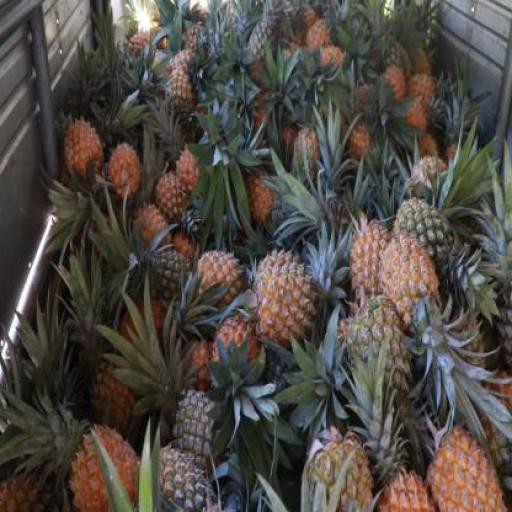------------------------------: (348, 300, 418, 400), (393, 200, 457, 298), (93, 356, 143, 432), (165, 70, 198, 128)
Pineapple - v8 v1: (71, 424, 148, 511), (382, 235, 444, 337), (430, 429, 506, 512), (256, 252, 318, 347), (348, 227, 398, 315), (212, 315, 258, 394), (199, 252, 242, 309), (63, 114, 103, 175), (158, 170, 196, 218), (108, 144, 138, 203)
